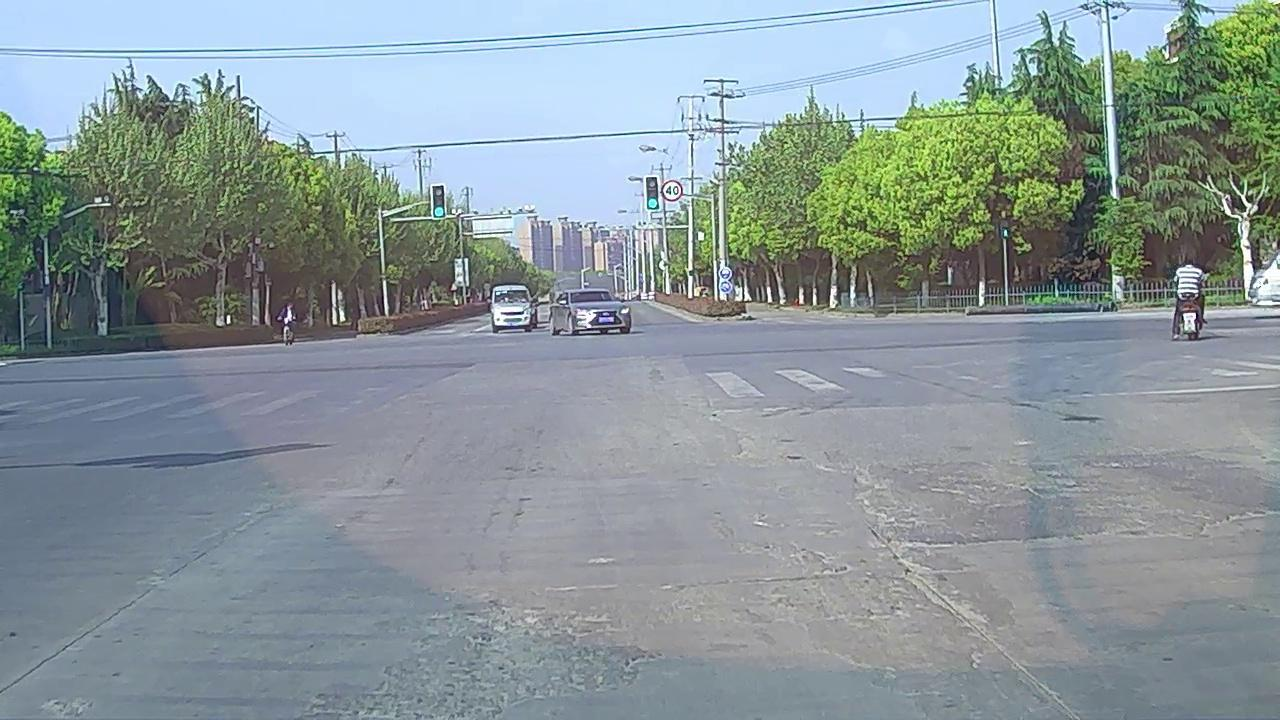traffic_light: (431, 184, 446, 218), (646, 176, 659, 210)
